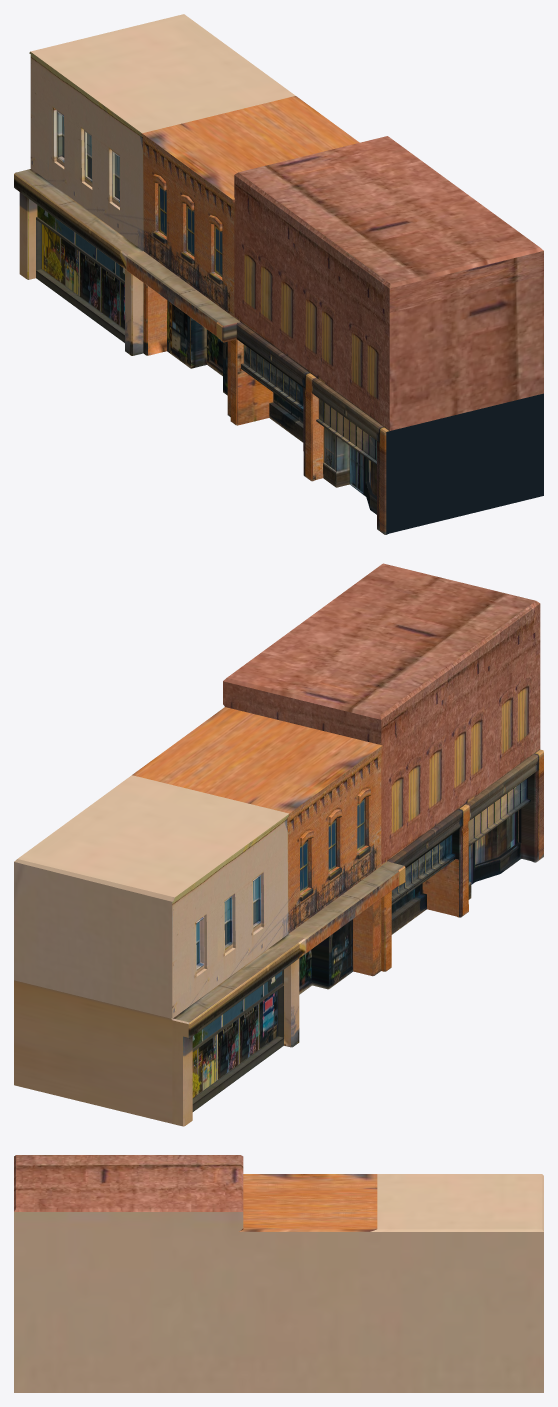
The model's file is Build_Red Brick_Orange_Peach.fbx.
3 views of the same model, one above another, from view 1: azimuth 30°, elevation 25°; view 2: azimuth 150°, elevation 25°; view 3: azimuth 270°, elevation 25° (orthographic). The views are drawn at different scales.
Visible parts, largest first — view 1: Build_Red Brick_Orange_Peach; view 2: Build_Red Brick_Orange_Peach; view 3: Build_Red Brick_Orange_Peach.
Part boxes in pixels (x1,y1,x2,y2): Build_Red Brick_Orange_Peach: (14,14,543,534); Build_Red Brick_Orange_Peach: (14,563,543,1126); Build_Red Brick_Orange_Peach: (14,1155,543,1392).
Size of the model in its own units: 198 by 273 by 715.
2 materials, 2 textured.
